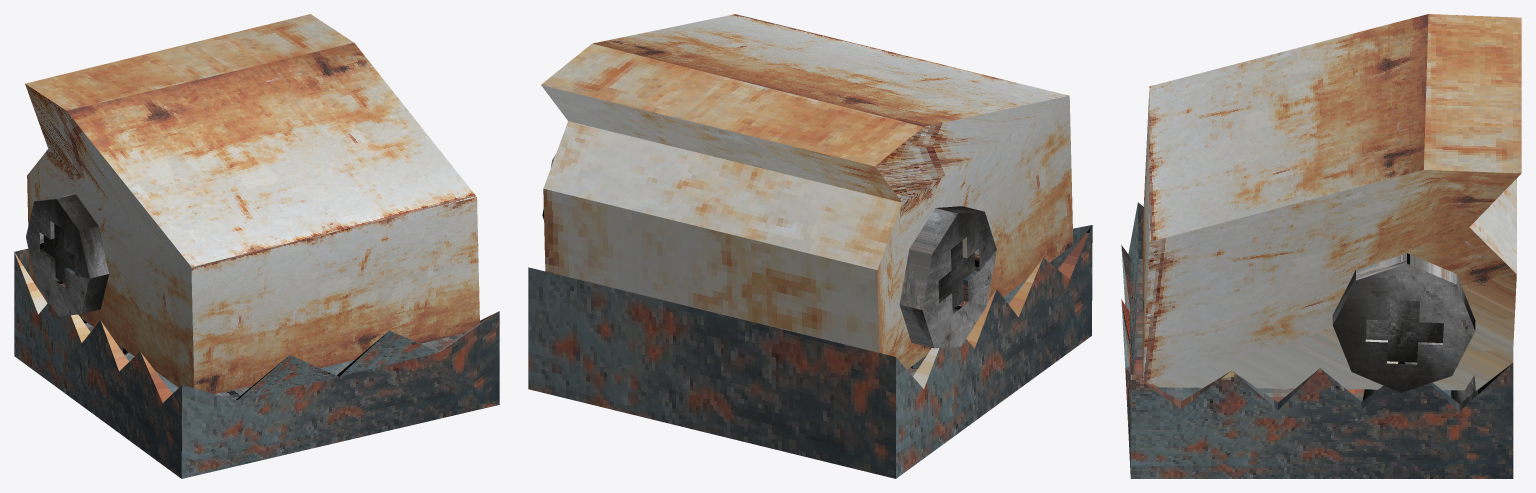
File: snakeheadONE.glb
The picture shows the model from 3 angles, left to right: view 1: azimuth 30°, elevation 25°; view 2: azimuth 150°, elevation 25°; view 3: azimuth 270°, elevation 25°; orthographic projection. The views are drawn at different scales.
Visible parts, largest first — view 1: Head, Jaw; view 2: Head, Jaw; view 3: Head, Jaw.
Boxes of the visible parts, x1,y1,x2,y2 form: Head: (25, 14, 479, 393); Jaw: (14, 248, 499, 478); Head: (541, 14, 1073, 369); Jaw: (528, 225, 1092, 478); Head: (1142, 14, 1521, 392); Jaw: (1121, 202, 1513, 478).
Size of the model in its own units: 2.27 by 1.81 by 2.17.
Materials: 1 (1 with a texture image).
